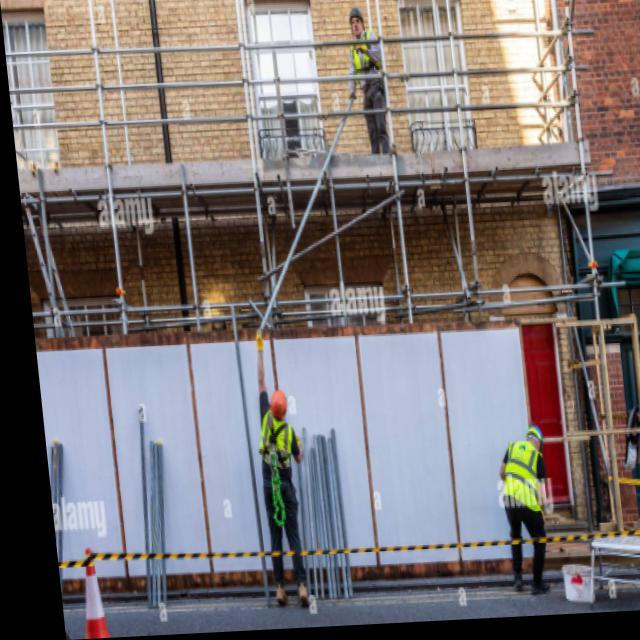hard_hat: (266, 386, 290, 423), (524, 423, 547, 456), (347, 6, 367, 40)
shoes: (271, 577, 314, 613), (514, 565, 552, 597)
vest: (498, 437, 549, 515), (254, 407, 300, 479), (345, 27, 384, 86)
